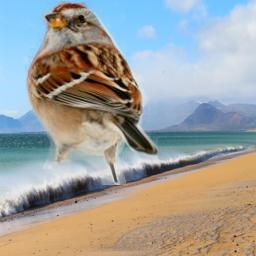Sparrow: (25, 1, 158, 185)
